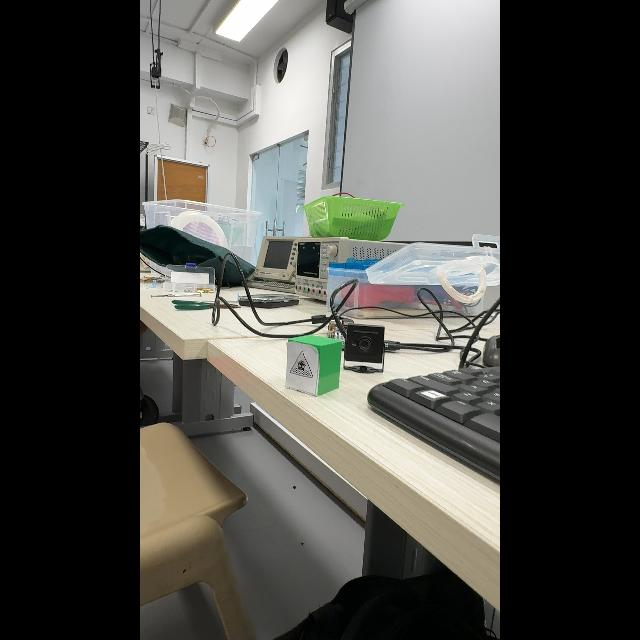Tsunami: (290, 350, 313, 379)
